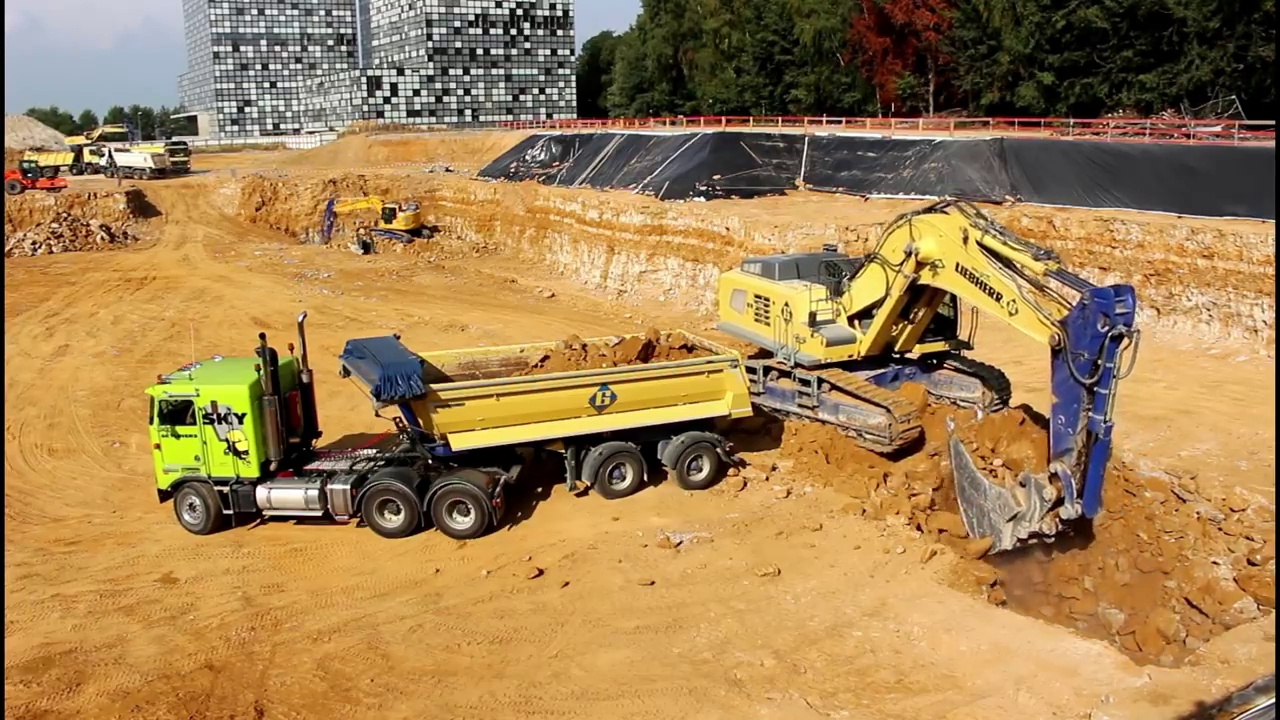compactor: (6, 159, 70, 195)
excavator: (698, 193, 1149, 569), (312, 188, 446, 252), (56, 117, 137, 154)
truck: (140, 306, 760, 544), (106, 140, 192, 171), (106, 148, 170, 182), (23, 144, 94, 174)
